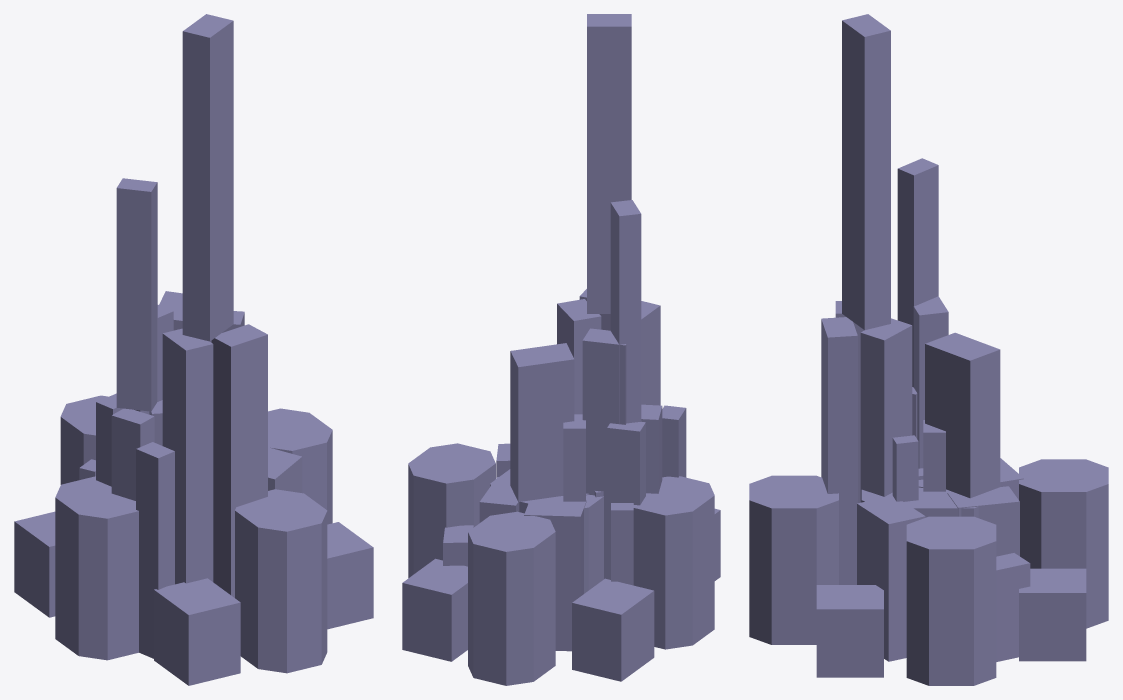
File: L1_Roca1.obj
3 views of the same model, side by side, from view 1: azimuth 30°, elevation 25°; view 2: azimuth 150°, elevation 25°; view 3: azimuth 270°, elevation 25° (orthographic). The views are drawn at different scales.
Visible parts, largest first — view 1: debris_stone, floor_detail; view 2: debris_stone, floor_detail; view 3: debris_stone, floor_detail.
Boxes of the visible parts, x1=… form: debris_stone: x1=79, y1=14, x2=302, y2=658; floor_detail: x1=14, y1=395, x2=373, y2=685; debris_stone: x1=443, y1=14, x2=686, y2=651; floor_detail: x1=402, y1=443, x2=720, y2=685; debris_stone: x1=821, y1=14, x2=1030, y2=661; floor_detail: x1=749, y1=459, x2=1108, y2=685.
Size of the model in its own units: 9.63 by 20.14 by 11.19.
